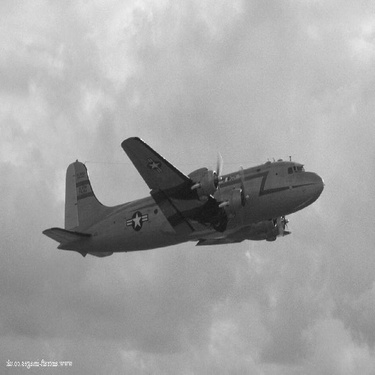airplane: (21, 131, 328, 263)
